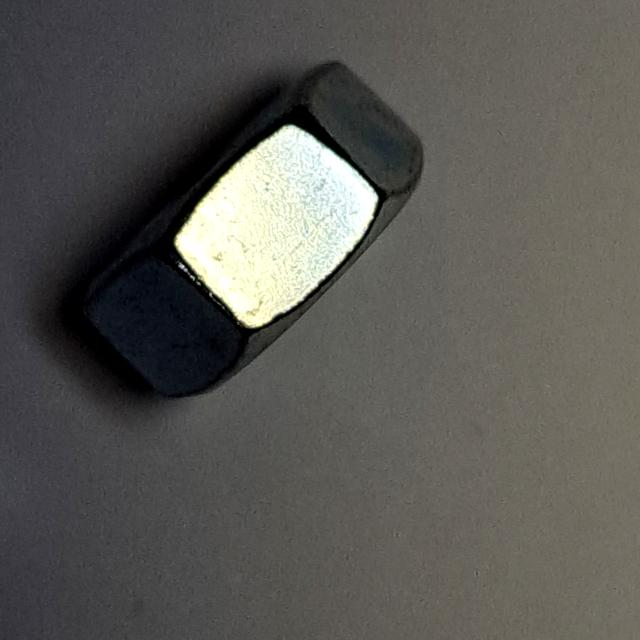Side_Excellent: (53, 34, 436, 430)
